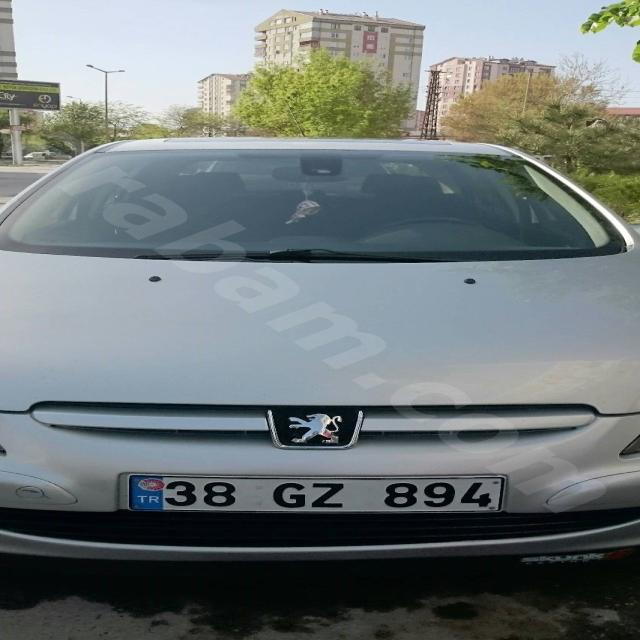license_plate: (126, 474, 504, 512)
